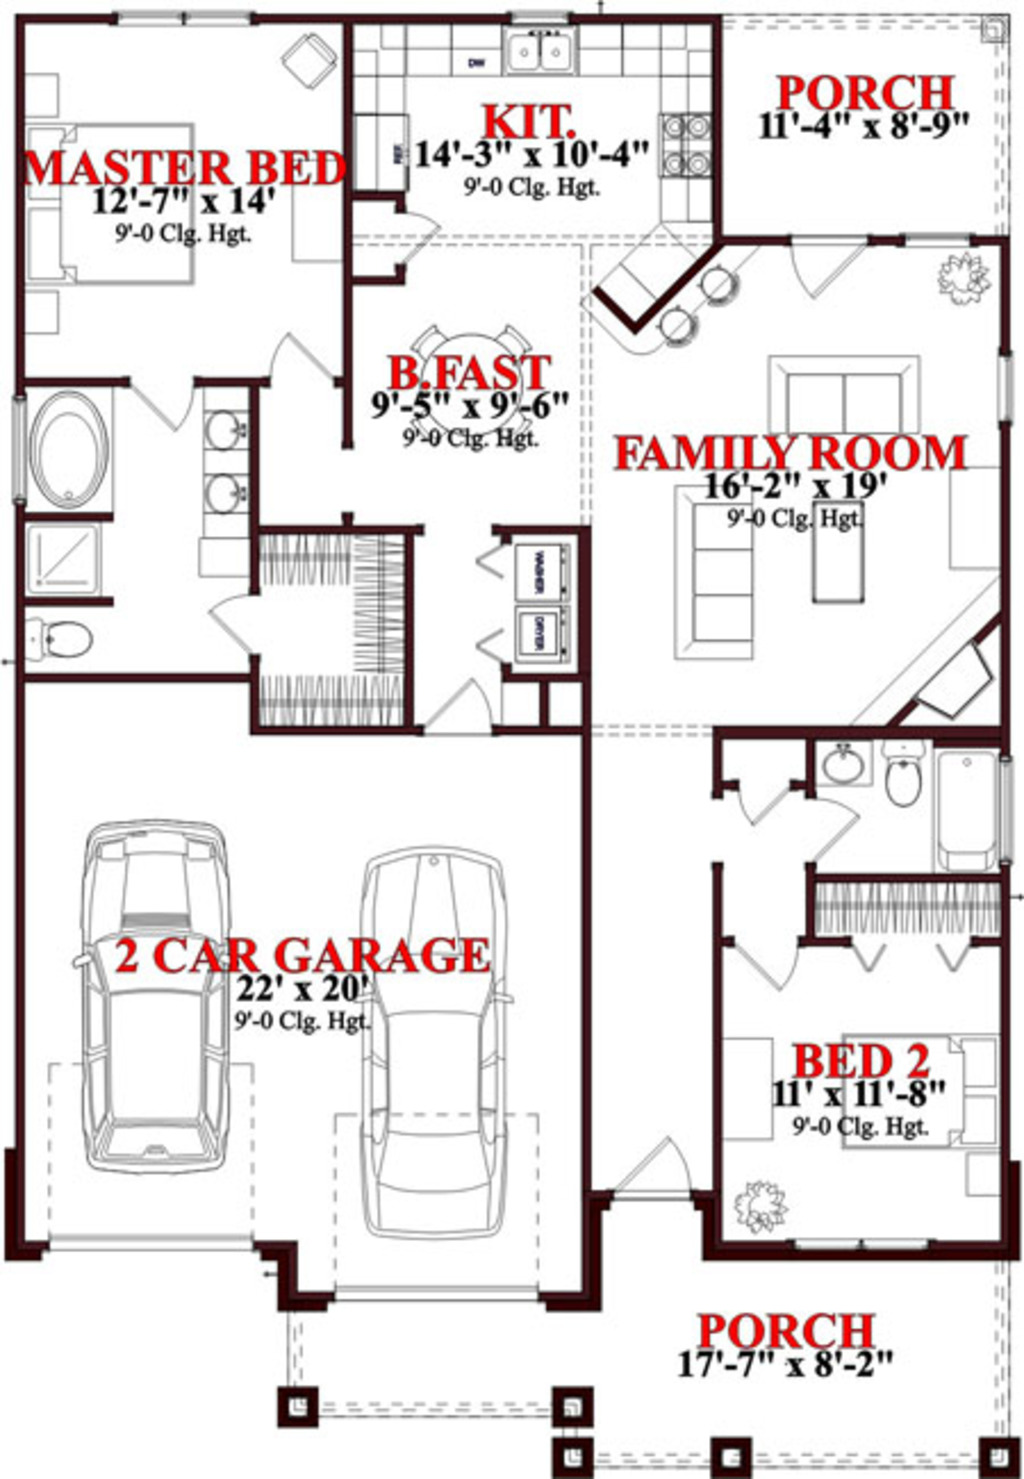bed: (19, 121, 210, 285), (831, 1029, 1006, 1147)
door: (785, 214, 869, 307), (250, 323, 344, 394), (610, 1137, 699, 1201), (206, 587, 278, 660), (124, 369, 201, 435), (419, 675, 493, 737), (803, 789, 858, 869), (726, 782, 787, 832), (735, 937, 787, 992), (399, 212, 448, 269)
large_sink: (22, 601, 110, 669), (876, 737, 935, 817)
large_sofa: (660, 446, 769, 671), (749, 355, 937, 453)
round_table: (383, 287, 560, 473)
small_sink: (203, 382, 253, 537), (819, 744, 872, 787)
tub: (22, 389, 110, 517), (935, 732, 1006, 880)
twin_sink: (475, 21, 599, 85)
window: (801, 1232, 937, 1255), (110, 10, 247, 26), (997, 344, 1020, 430)
